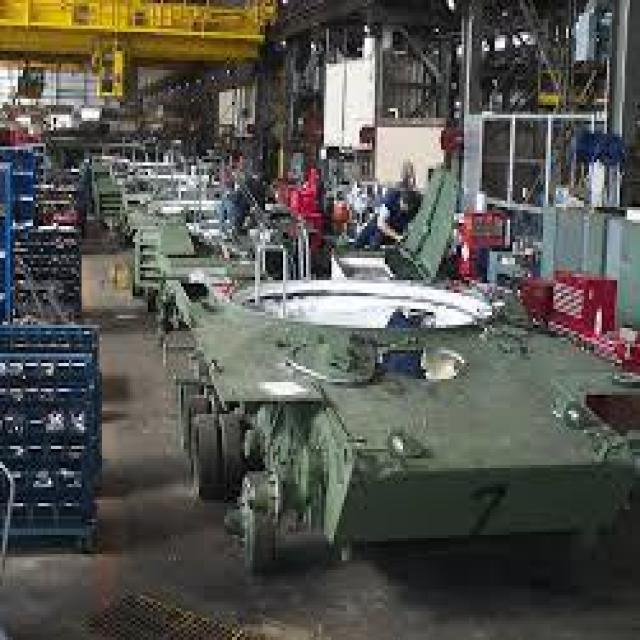Tanks: (166, 248, 632, 576)
